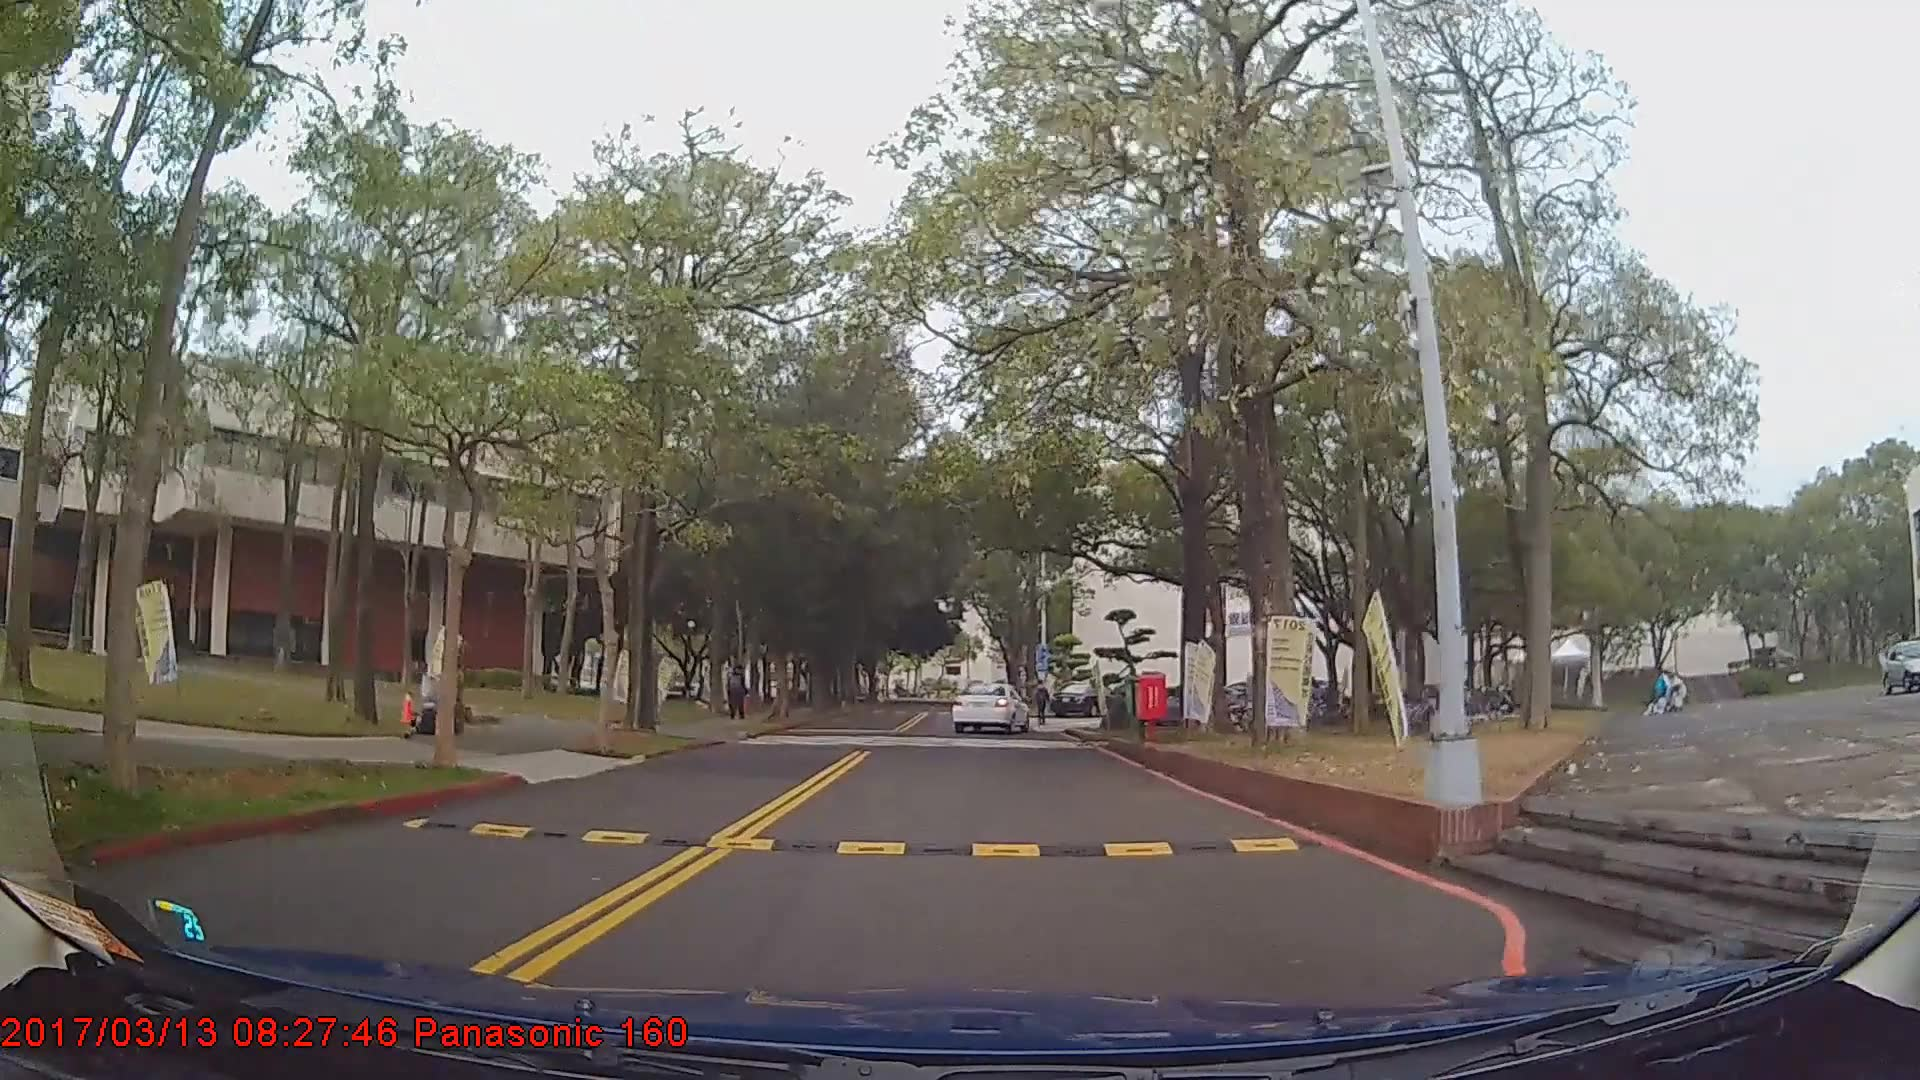pedestrian: (726, 664, 752, 726)
vehicle: (951, 681, 1030, 736), (1877, 639, 1920, 700), (1052, 683, 1111, 718)
